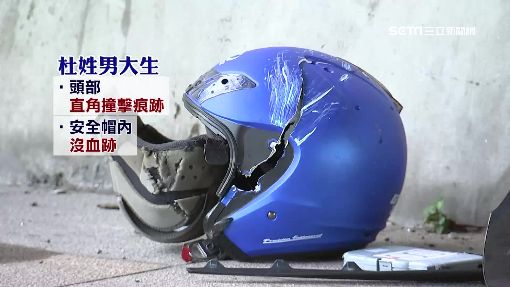helmet: (186, 61, 408, 244)
